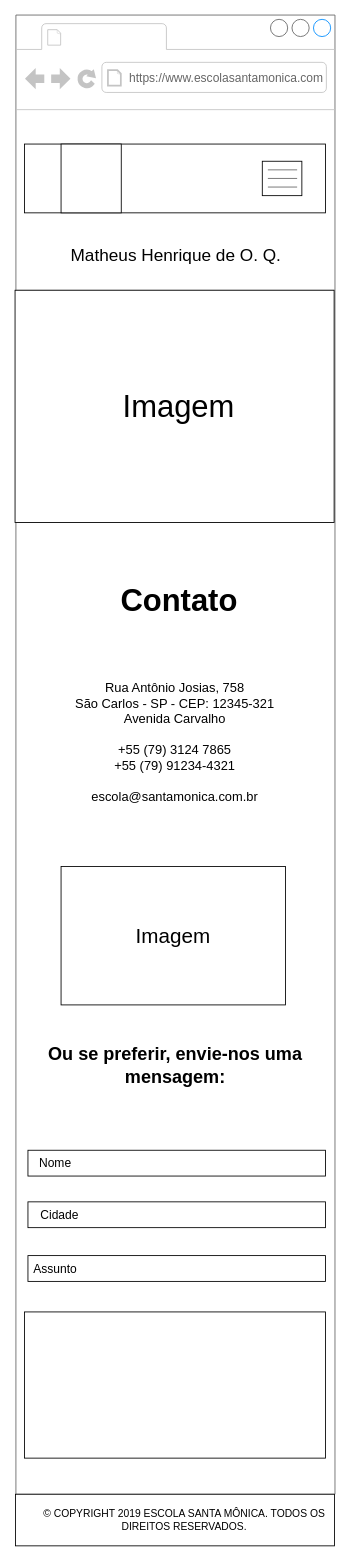
The diagram is 358 pixels wide and 1561 high, and some of its shapes have lost their labels. The shapes that lost their labels are listed below. From the top down, each one's centre as x and y in pixels, then its label:
At point (114, 36): "Page 1".
At point (90, 178): "Logo".
At point (175, 1384): "Mensagem".
